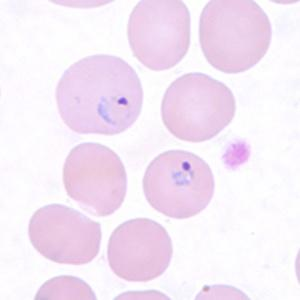Infected: (57, 54, 143, 135), (143, 151, 214, 219)
Uninfected: (161, 72, 238, 141), (199, 0, 271, 71), (63, 143, 129, 217), (27, 204, 101, 265), (128, 0, 190, 71), (107, 218, 172, 282)
